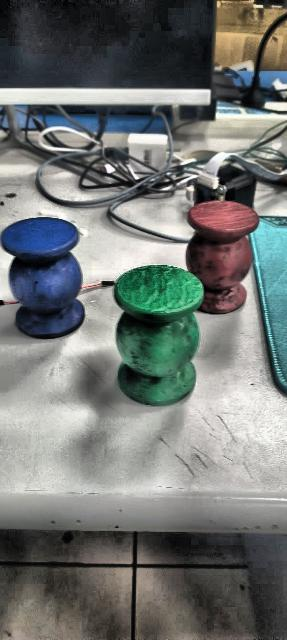blue: (1, 216, 84, 338)
green: (110, 263, 216, 409)
red: (184, 200, 268, 318)
